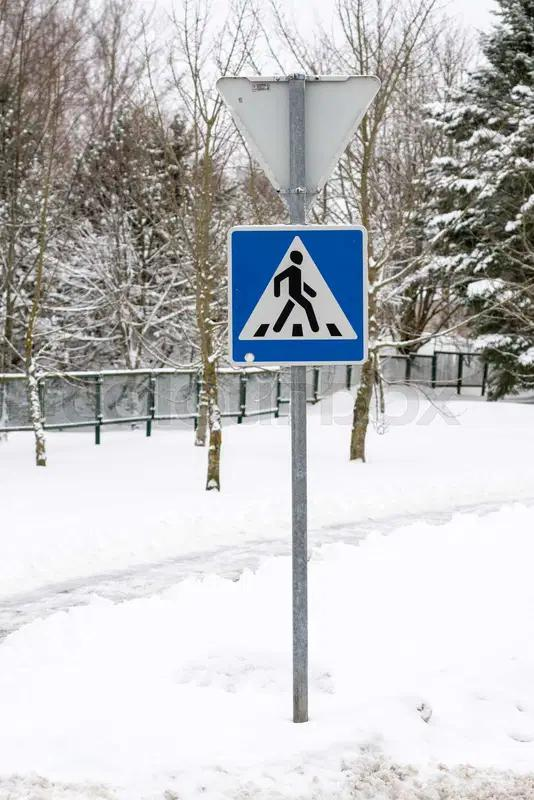traffic sign: (198, 69, 396, 748)
